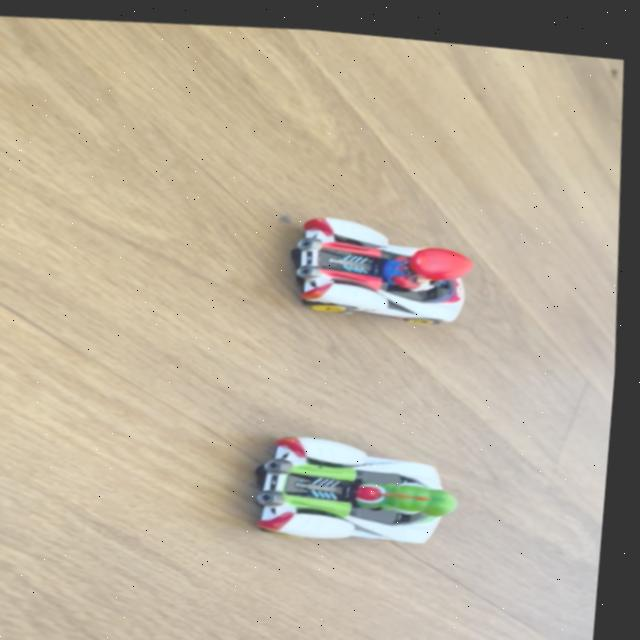mario: (276, 196, 506, 338)
yoshi: (238, 405, 482, 551)
